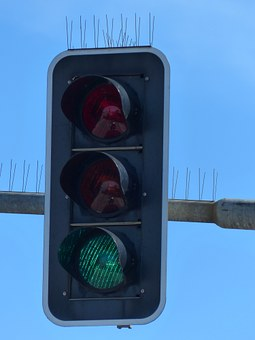trafic: (42, 45, 170, 321)
